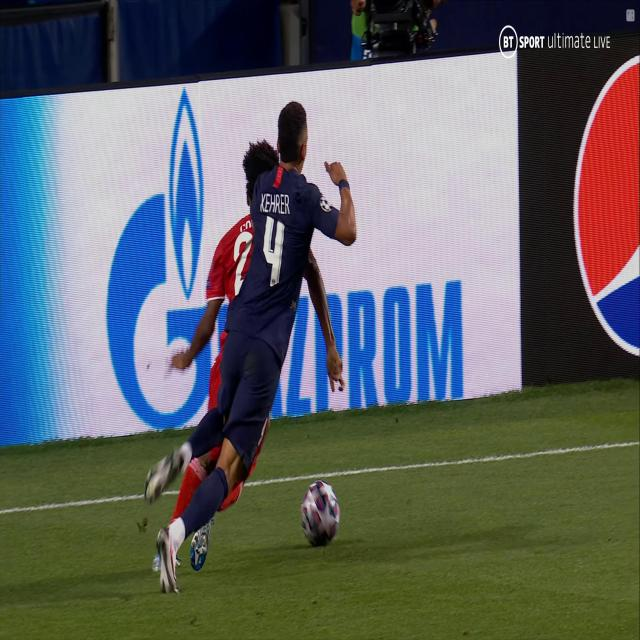ball: (299, 475, 341, 550)
player: (160, 100, 358, 594), (152, 140, 346, 568)
